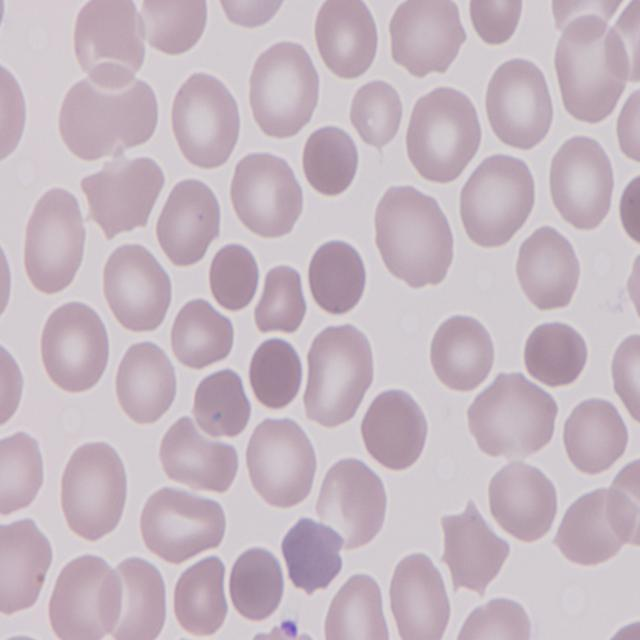RBC: (553, 6, 636, 125), (372, 186, 457, 288), (403, 86, 487, 188), (298, 322, 374, 432), (458, 153, 540, 254), (167, 67, 244, 172), (245, 39, 323, 142), (22, 182, 92, 296), (56, 441, 130, 546), (470, 371, 558, 458), (98, 238, 174, 338), (544, 134, 621, 232), (136, 486, 228, 566), (484, 58, 559, 156), (242, 419, 320, 513), (45, 548, 123, 640), (39, 300, 113, 396), (229, 149, 306, 240), (154, 174, 223, 272), (488, 458, 563, 547), (156, 419, 240, 496), (513, 224, 582, 316), (390, 0, 470, 79), (442, 503, 510, 595), (111, 336, 180, 426), (0, 516, 56, 624), (428, 311, 496, 398), (54, 75, 121, 163), (386, 556, 456, 640), (562, 394, 633, 476), (360, 387, 429, 471), (316, 0, 384, 81), (280, 512, 346, 594), (168, 297, 240, 371), (522, 316, 592, 389), (321, 570, 391, 640), (170, 557, 230, 637), (190, 364, 250, 439), (348, 75, 407, 151), (252, 262, 309, 338), (141, 0, 210, 58), (0, 433, 45, 518), (456, 596, 538, 640), (466, 0, 535, 48), (0, 58, 29, 168), (609, 328, 640, 423), (209, 0, 296, 32), (0, 336, 27, 430), (615, 82, 640, 173), (615, 166, 638, 253)
Spherocyte: (304, 236, 369, 322), (246, 332, 307, 416), (228, 543, 290, 624), (299, 122, 360, 200), (206, 242, 264, 318)
